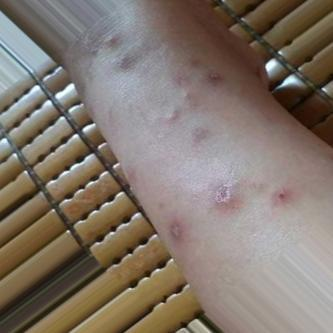Fleas: (213, 185, 242, 216), (123, 164, 141, 190), (184, 93, 205, 114), (164, 106, 185, 126), (272, 189, 294, 206), (167, 219, 182, 242), (116, 54, 136, 71), (172, 72, 192, 87), (208, 70, 224, 88), (102, 35, 121, 49), (192, 129, 206, 141)
